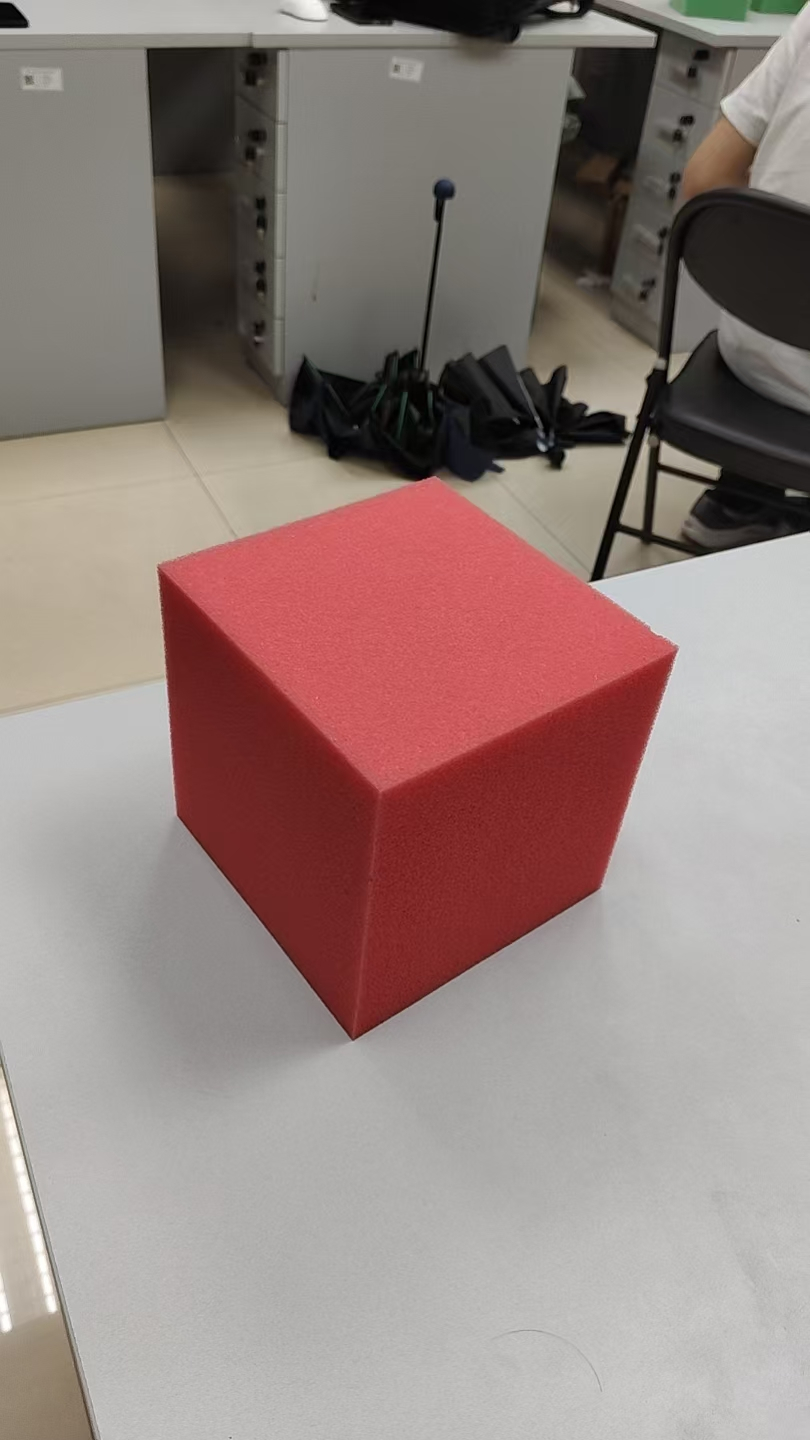red_large: (155, 473, 682, 1041)
